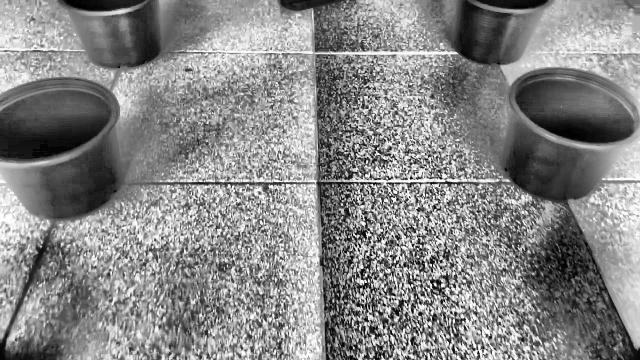pot: (502, 67, 640, 202), (0, 78, 124, 221)
